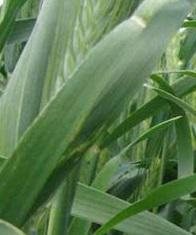Wheat: (6, 2, 190, 218)
